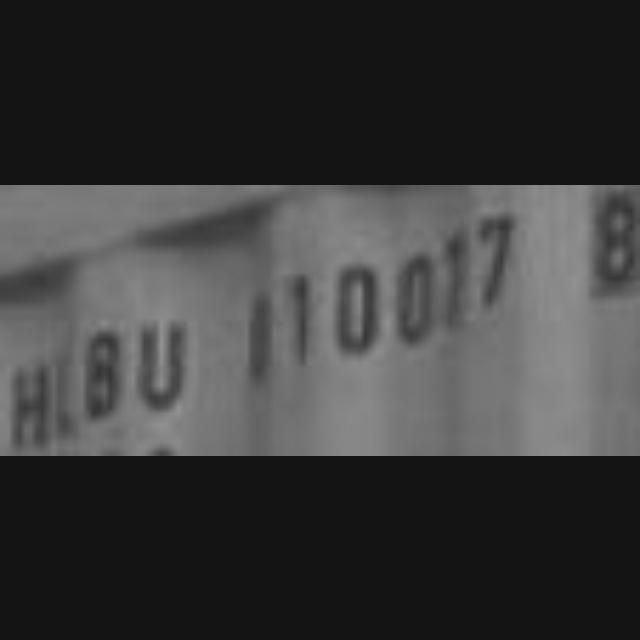0: (330, 254, 388, 362), (390, 243, 444, 357)
1: (284, 266, 320, 376)
7: (472, 203, 522, 319), (438, 230, 477, 334)
8: (586, 185, 640, 295), (233, 282, 284, 386)
b: (84, 320, 128, 432)
h: (1, 348, 51, 456)
l: (52, 337, 82, 443)
u: (134, 305, 196, 421)
